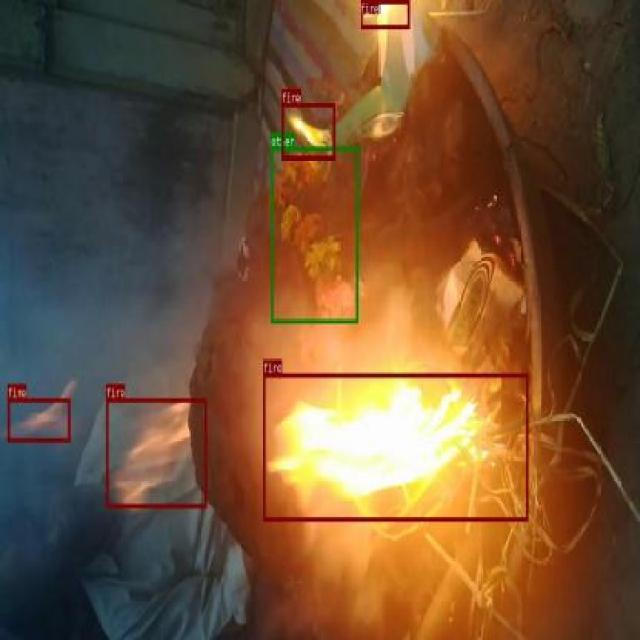Fire: (263, 373, 528, 521), (105, 397, 207, 508), (280, 103, 334, 159), (7, 396, 70, 442), (360, 0, 409, 28)
